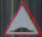Speed Breaker ahead: (2, 1, 41, 35)
